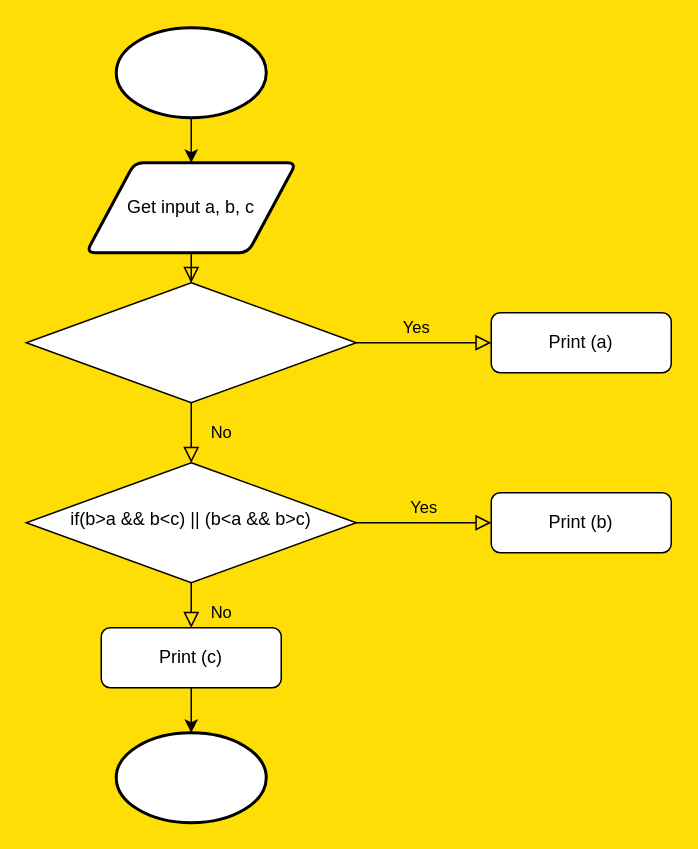
This 698x849 diagram has some shape labels left out. The shapes that lost their labels are listed below. From the top down, each one's centre as x and y in pixels, then its label:
At point 190,72: "Start".
At point 190,342: "if(a>b && a<c) || (a<b && a>c)".
At point 190,777: "End".
